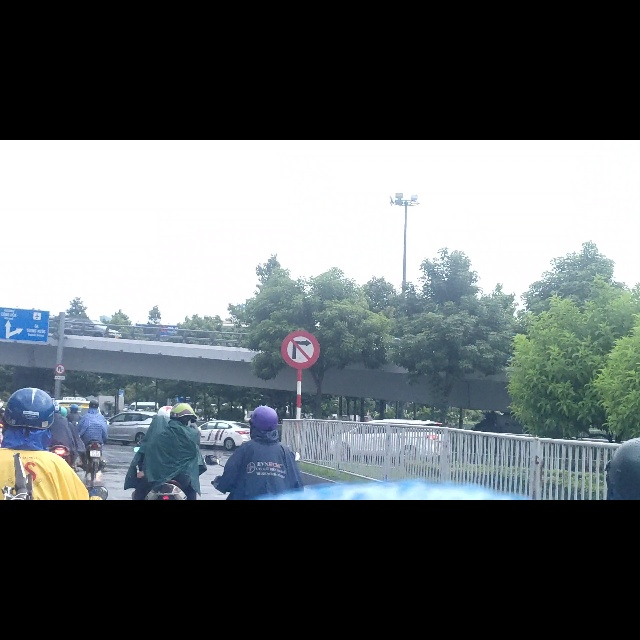bien_cam: (281, 338, 321, 409)
